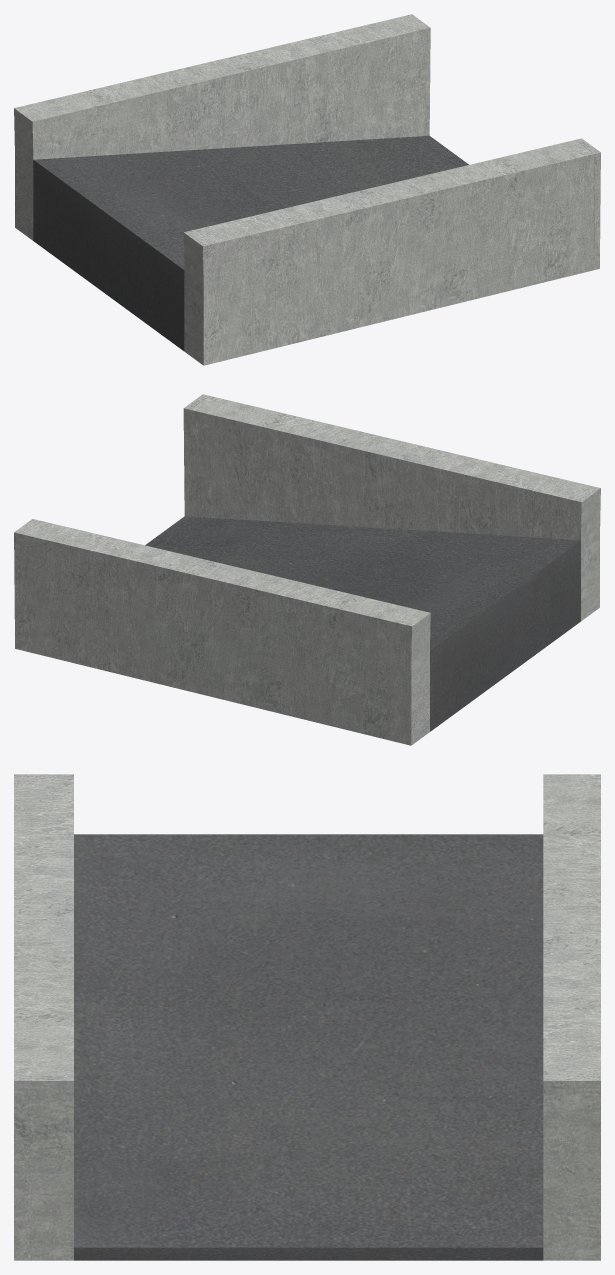
The model's file is Coastal Ramp.FBX.
3 renders of one model, top to bottom at view 1: azimuth 30°, elevation 25°; view 2: azimuth 150°, elevation 25°; view 3: azimuth 270°, elevation 25°, orthographic. The views are drawn at different scales.
Parts seen in each view (by area): view 1: Coastal Ramp; view 2: Coastal Ramp; view 3: Coastal Ramp.
Part boxes in pixels (<box>): Coastal Ramp: <box>14,14,600,365</box>; Coastal Ramp: <box>14,394,600,745</box>; Coastal Ramp: <box>14,774,600,1260</box>.
Bounding box in the file's own units: 108 × 30.85 × 88.34.
1 material, 1 textured.
